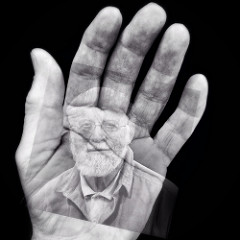palm: (32, 113, 172, 234)
